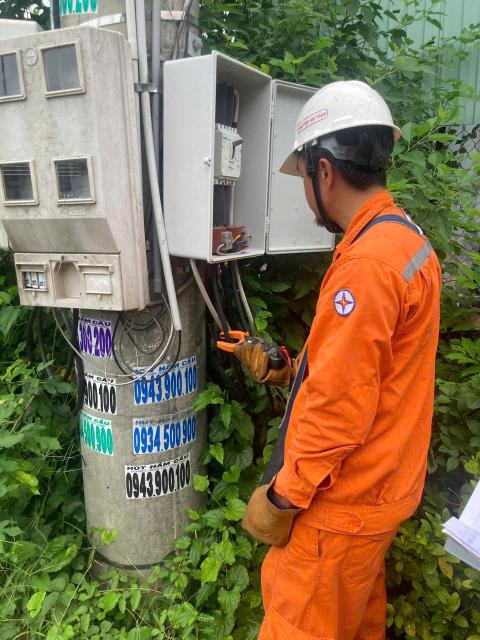gloves: (208, 308, 321, 389), (213, 483, 329, 558)
helmet: (259, 73, 406, 178)
